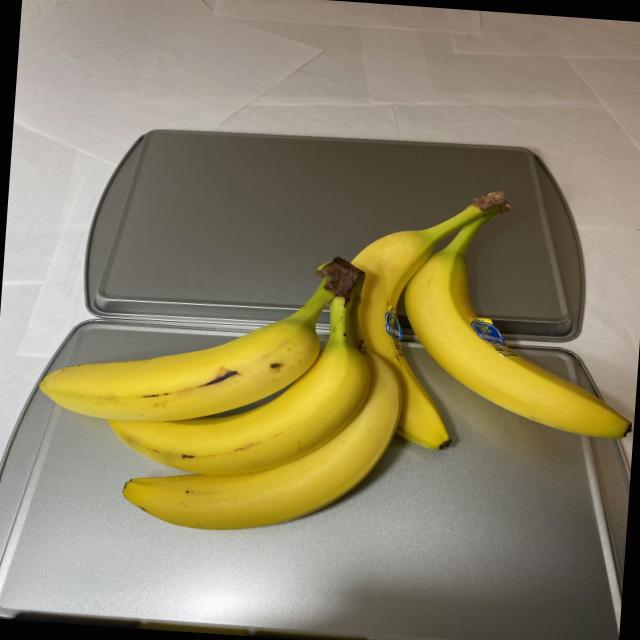banana: (29, 158, 640, 560)
